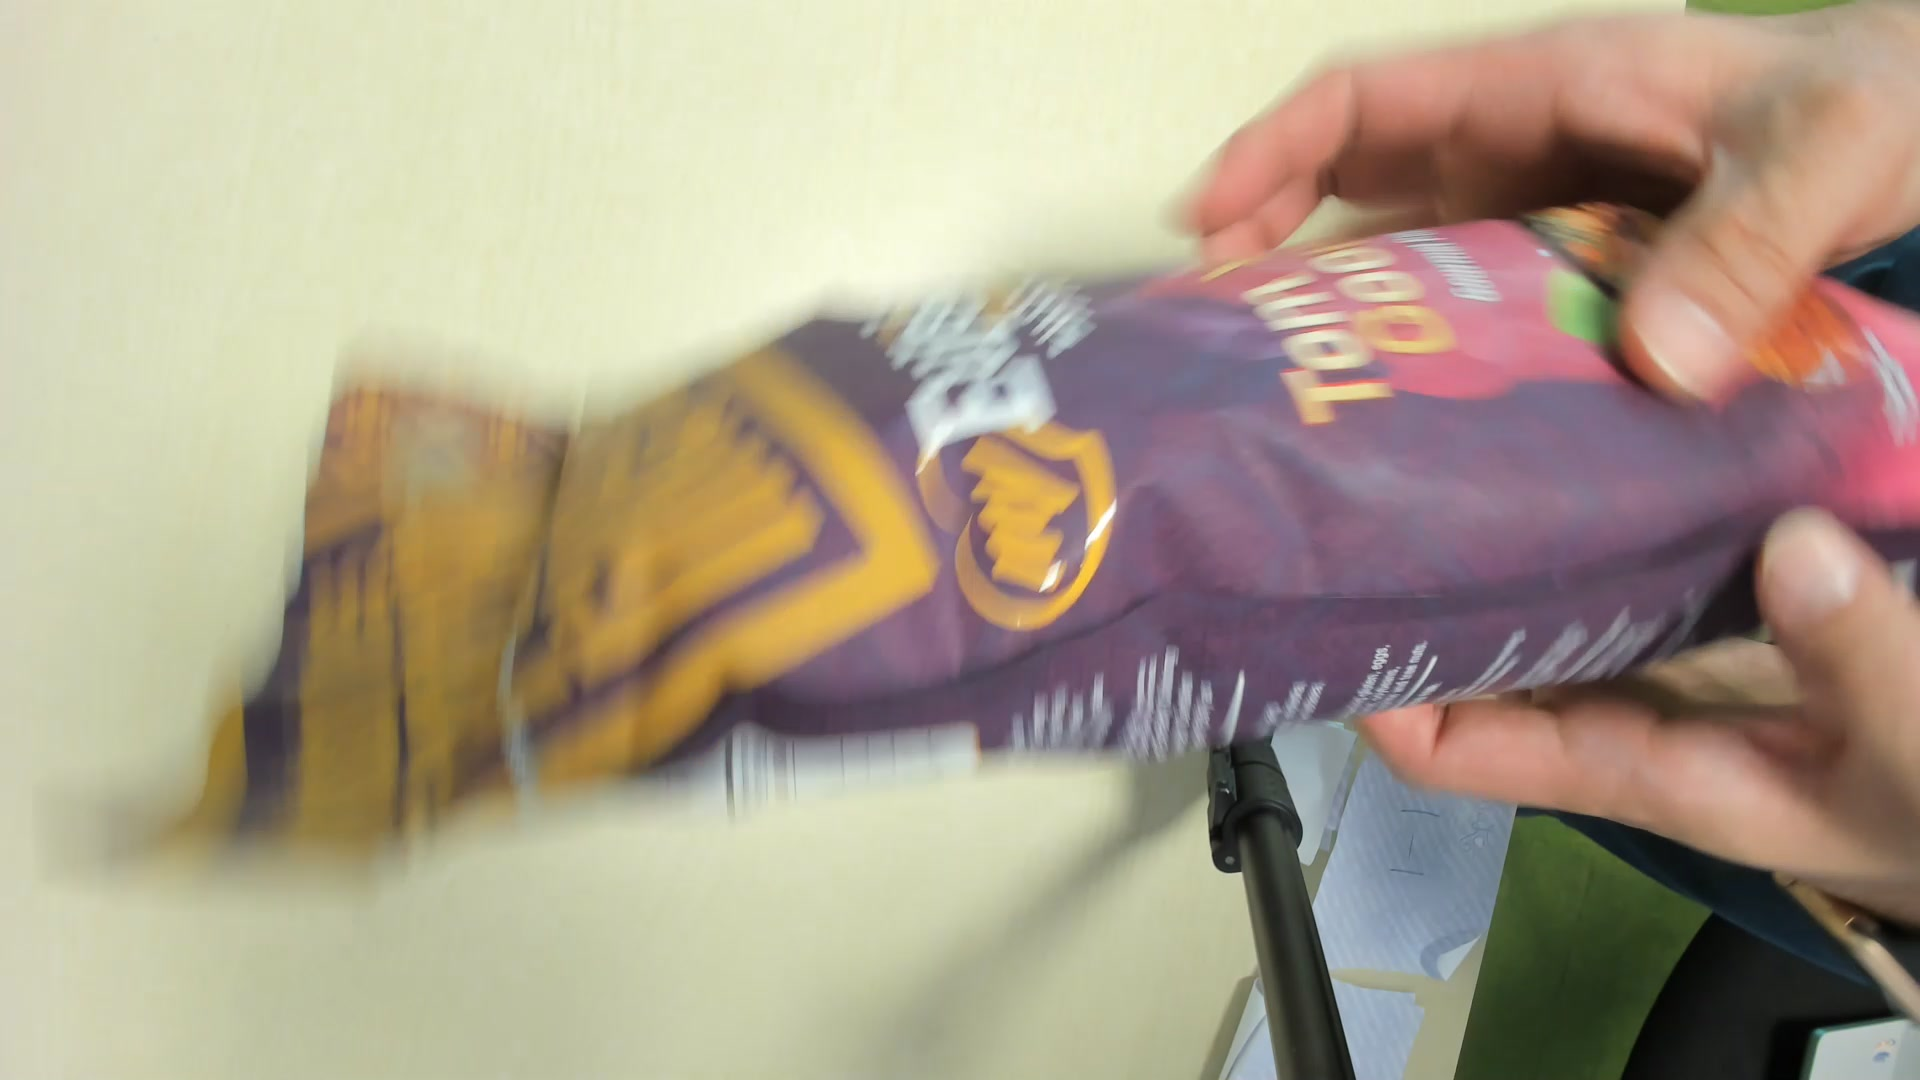PotatoChipsKeropok_100-199g_Halal_NonHealthy: (253, 214, 1920, 783)
